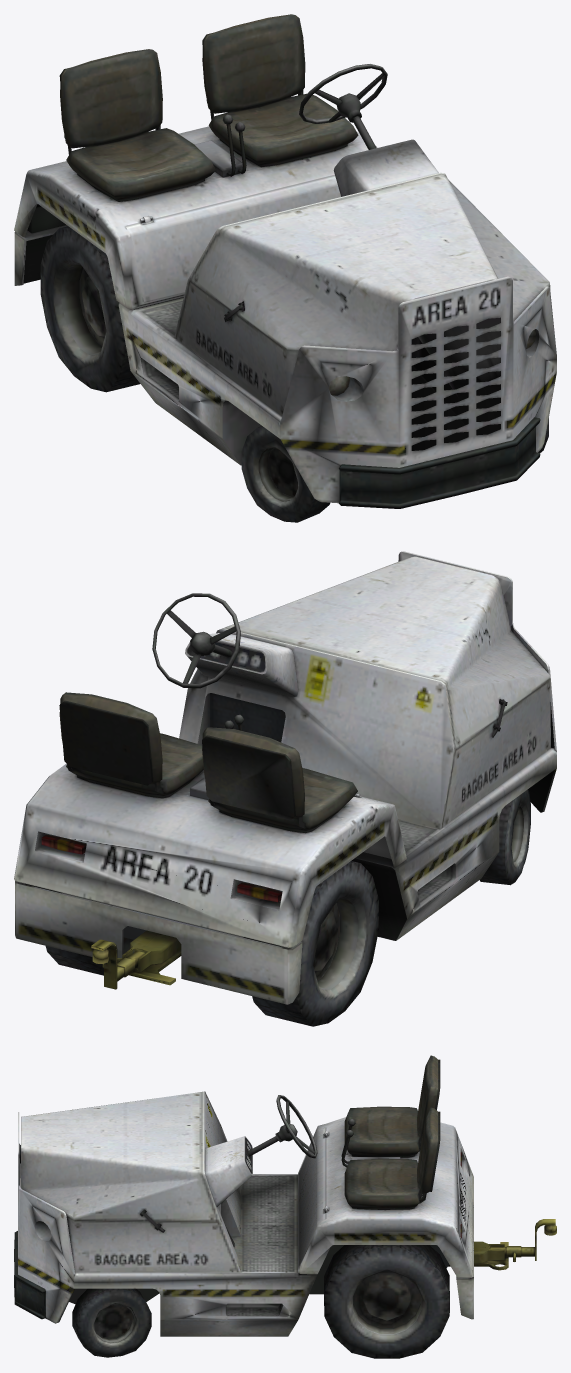
File: airport_baggage_tractor.obj
3 renders of one model, top to bottom at view 1: azimuth 30°, elevation 25°; view 2: azimuth 150°, elevation 25°; view 3: azimuth 270°, elevation 25°, orthographic. The views are drawn at different scales.
Parts seen in each view (by area): view 1: (null); view 2: (null); view 3: (null).
Boxes of the visible parts, left/top/right/bottom form: (null): left=14, top=14, right=556, bottom=522; (null): left=14, top=551, right=556, bottom=1026; (null): left=14, top=1055, right=556, bottom=1358.
Size of the model in its own units: 60.42 by 66.89 by 136.
Materials: 1 (1 with a texture image).
